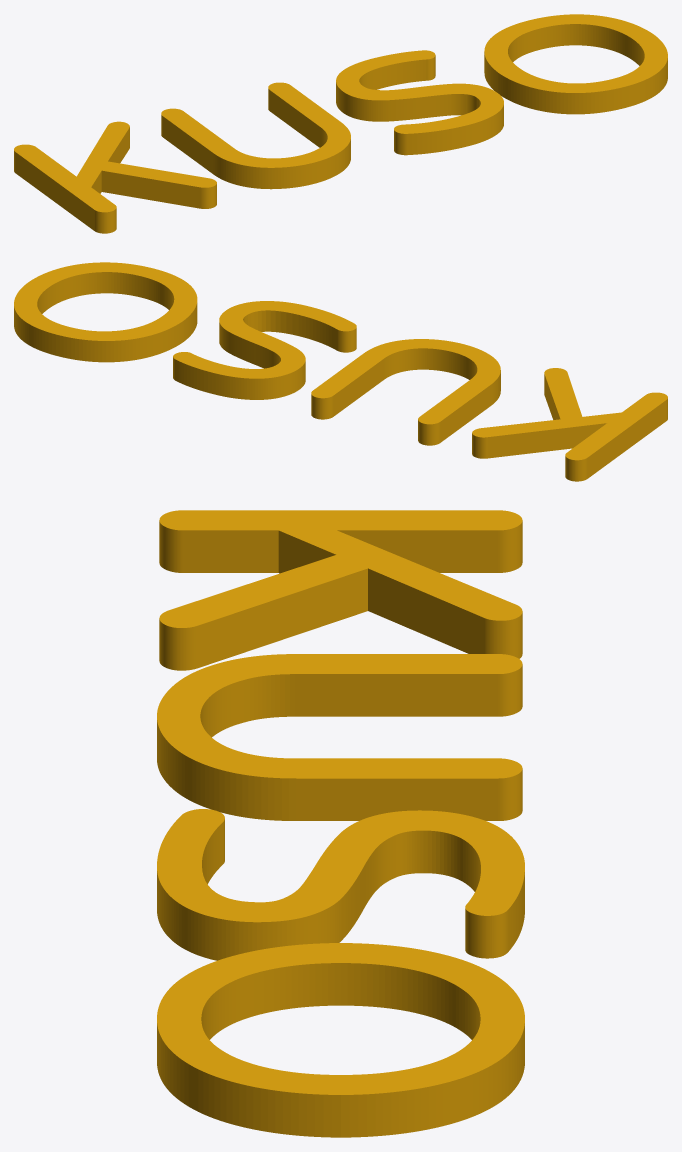
The model's file is KUSO.fbx.
3 views of the same model, one above another, from view 1: azimuth 30°, elevation 25°; view 2: azimuth 150°, elevation 25°; view 3: azimuth 270°, elevation 25° (orthographic). The views are drawn at different scales.
Parts seen in each view (by area): view 1: 文字; view 2: 文字; view 3: 文字.
Boxes of the visible parts, <box> form: 文字: <box>14,14,667,233</box>; 文字: <box>14,262,667,481</box>; 文字: <box>157,510,524,1137</box>.
Bounding box in the file's own units: 206 × 7 × 54.84.
